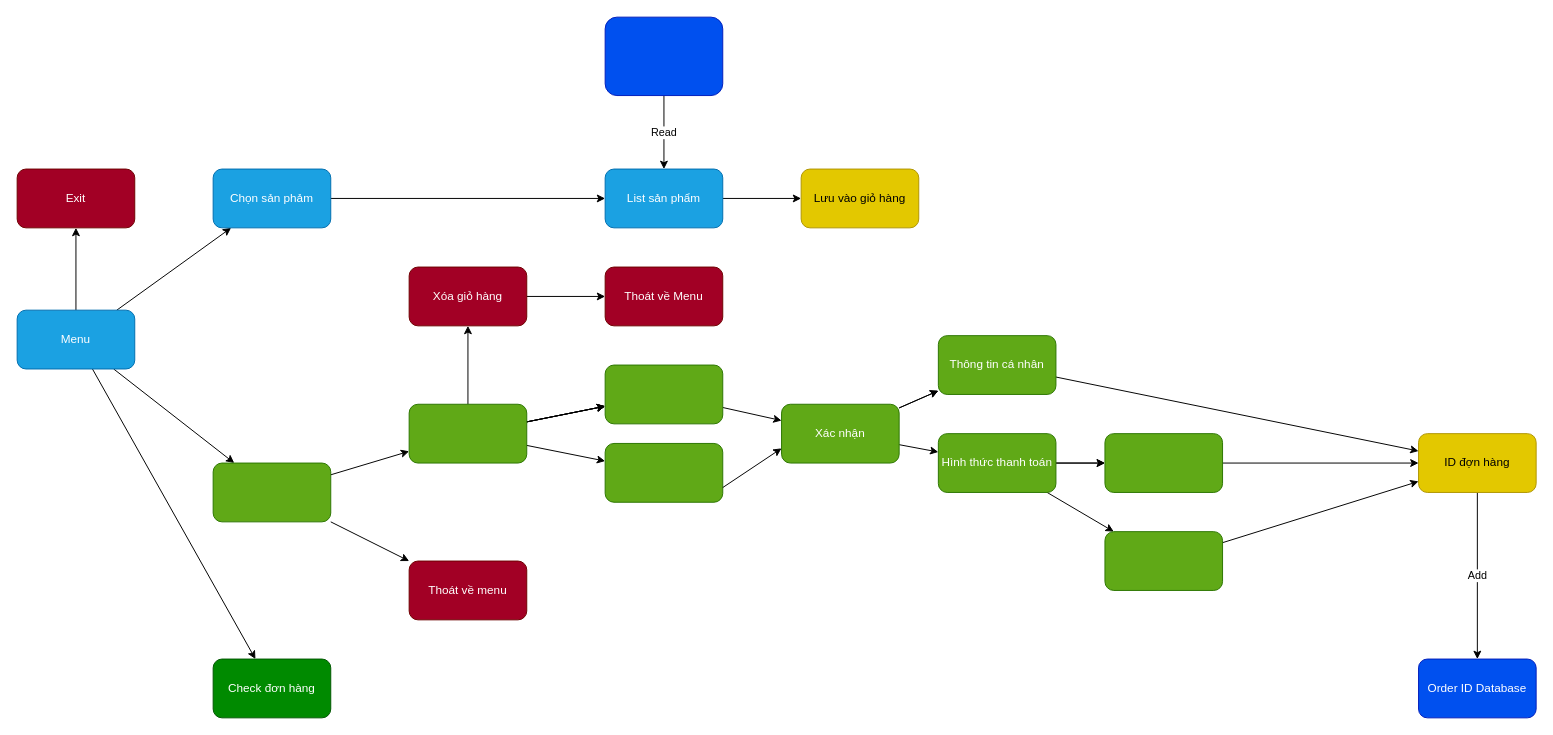
This 1553x735 diagram has some shape labels left out. Each missing label, with the centre of its shape:
"Check giỏ hàng" belongs at point 271,492.
"Kiểm tra" belongs at point 467,433.
"Product Database" belongs at point 663,56.
"Trả trực tiếp" belongs at point 1163,560.
"Trả trực tuyến" belongs at point 1163,462.
"Tăng giảm mặt hàng" belongs at point 663,394.
"Xóa mặt hàng" belongs at point 663,472.
